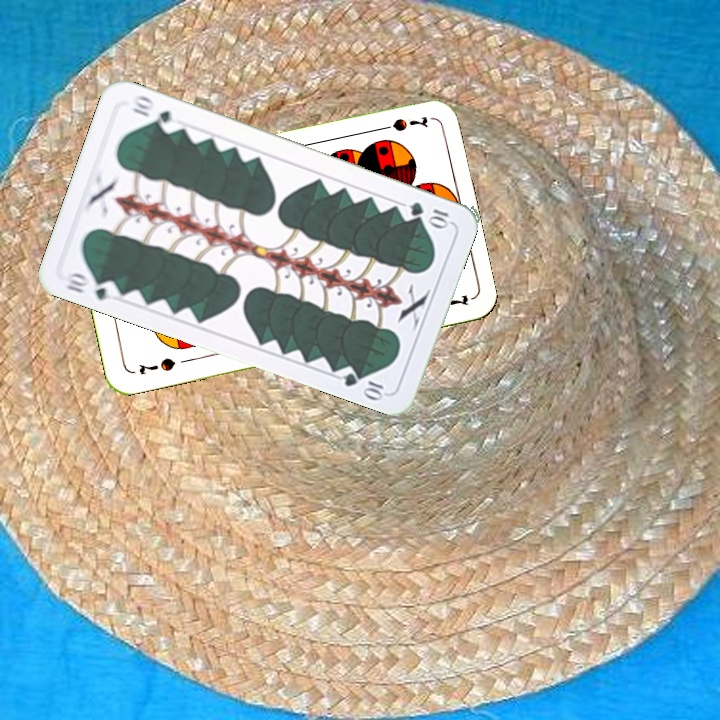G10: (61, 268, 121, 303), (404, 197, 453, 230)
S7: (374, 112, 431, 134), (134, 353, 178, 378)
